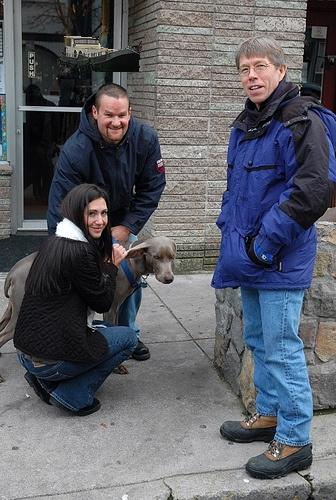tampered: (57, 32, 142, 72)
